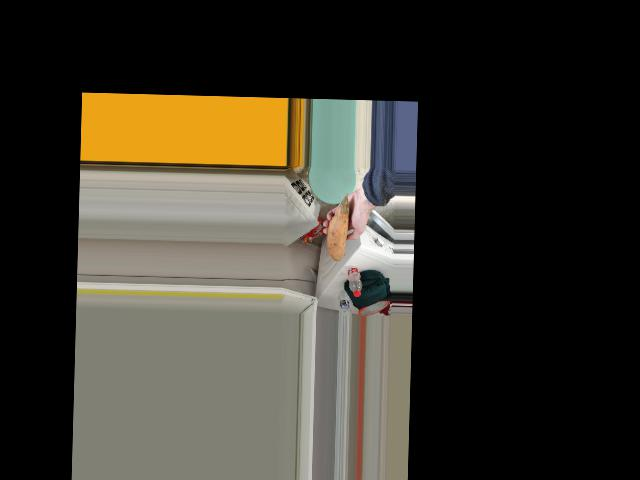sweet_potato: (326, 200, 351, 255)
